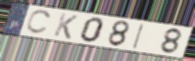0: (79, 17, 105, 44)
8: (159, 27, 185, 55), (107, 20, 131, 47)
C: (24, 10, 54, 36)
I: (131, 22, 146, 50)
K: (52, 12, 80, 40)
